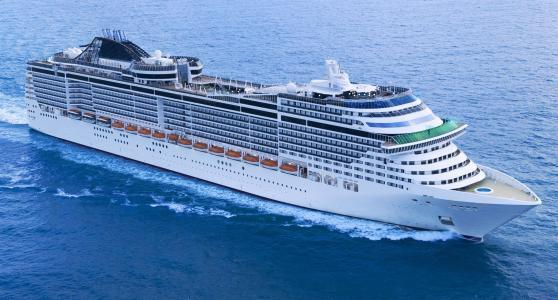Ship: (31, 22, 540, 234)
